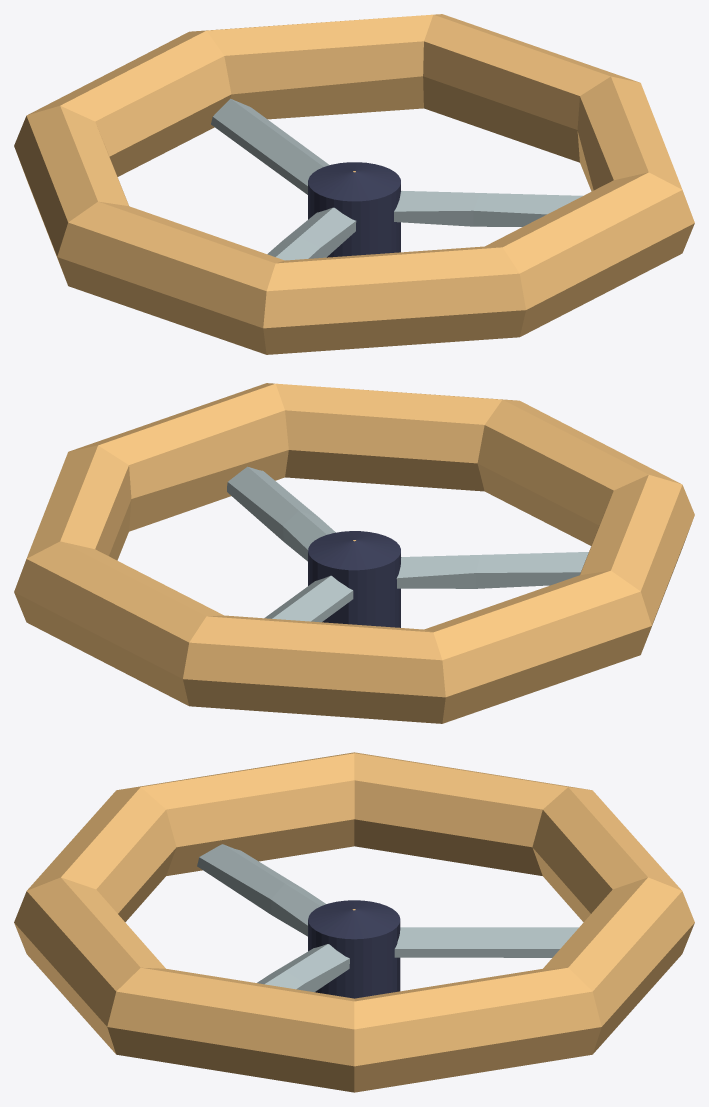
The model's file is manubrio.fbx.
3 renders of one model, top to bottom at view 1: azimuth 30°, elevation 25°; view 2: azimuth 150°, elevation 25°; view 3: azimuth 270°, elevation 25°, orthographic.
Visible parts, largest first — view 1: Cylinder; view 2: Cylinder; view 3: Cylinder.
Part boxes in pixels (x1,y1,x2,y2): Cylinder: [14, 14, 694, 354]; Cylinder: [14, 383, 694, 723]; Cylinder: [14, 752, 694, 1092].
Bounding box in the file's own units: 149 × 30.41 × 149.
